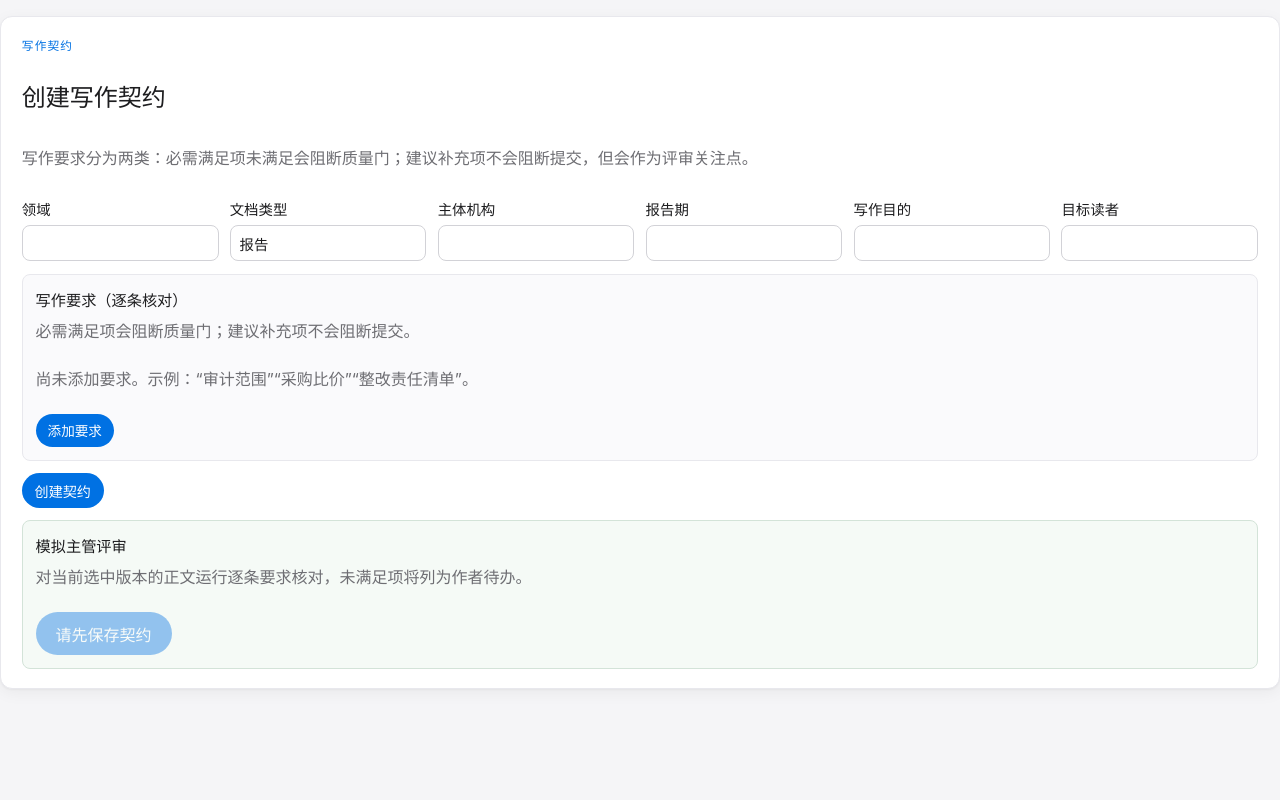
WritingContractForm › adds, edits, and removes requirements
Click the button "添加要求" at [75, 430], box [36,414,114,447]
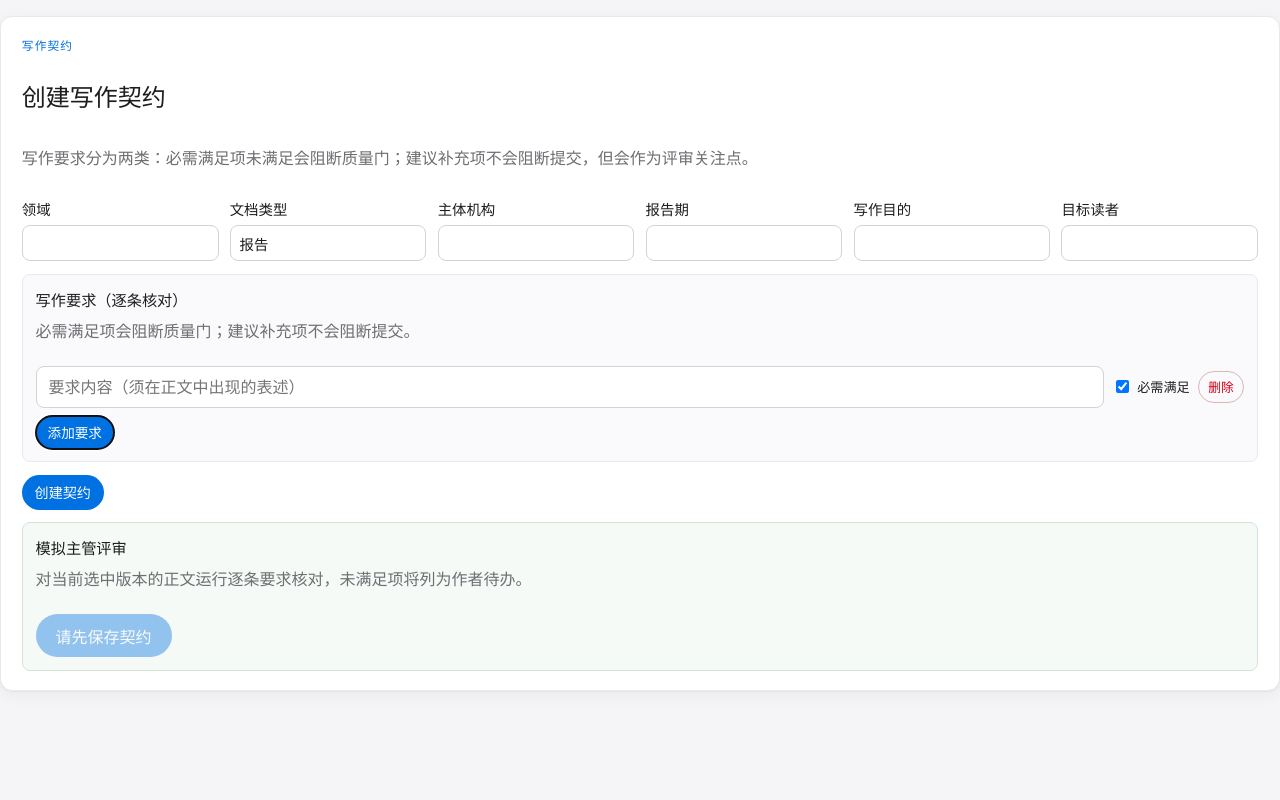
Click the button "添加要求" at [75, 432], box [36,416,114,449]
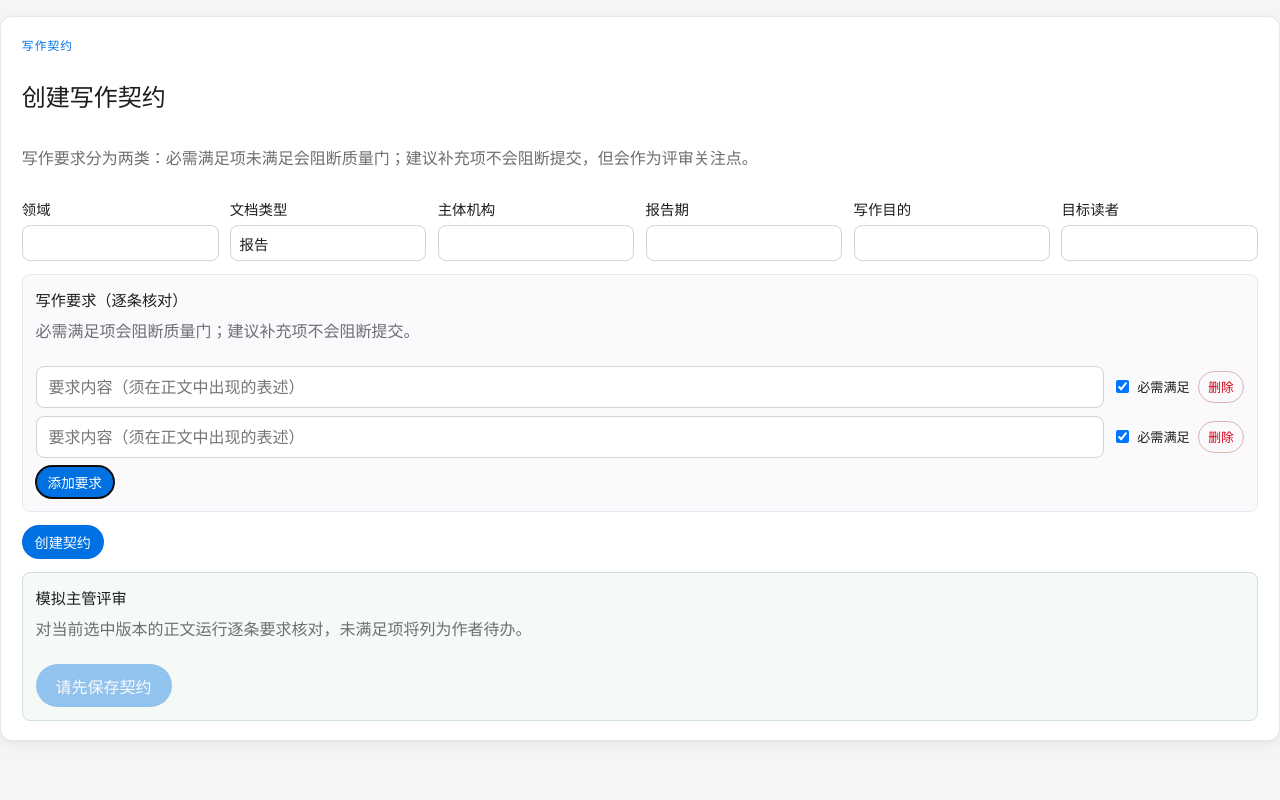
Check: the number of fields labelled "要求内容（须在正文中出现的表述）" is 2
Type "审计范围" into the 1st field labelled "要求内容（须在正文中出现的表述）" at [570, 387], box [36,366,1104,408]
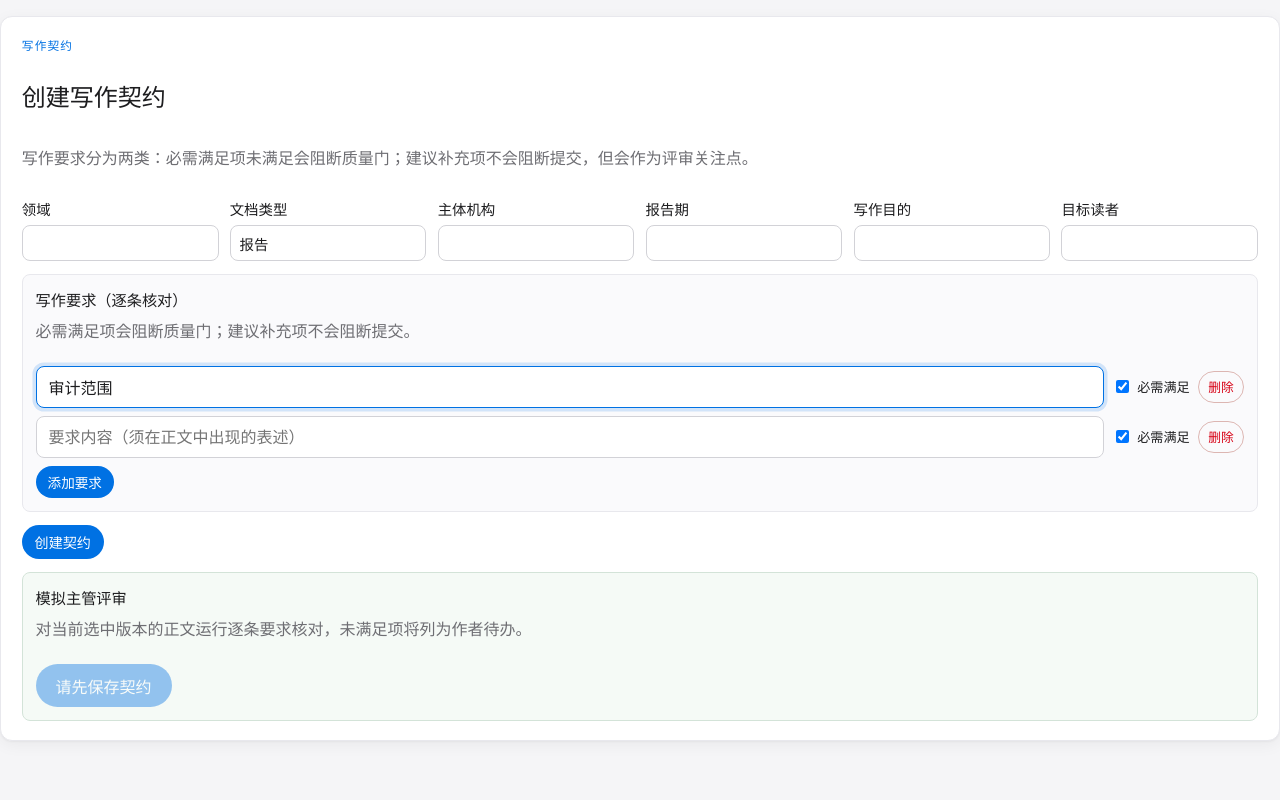
Click the button with aria-label "删除要求 2" at [1221, 437], box [1198,421,1244,453]
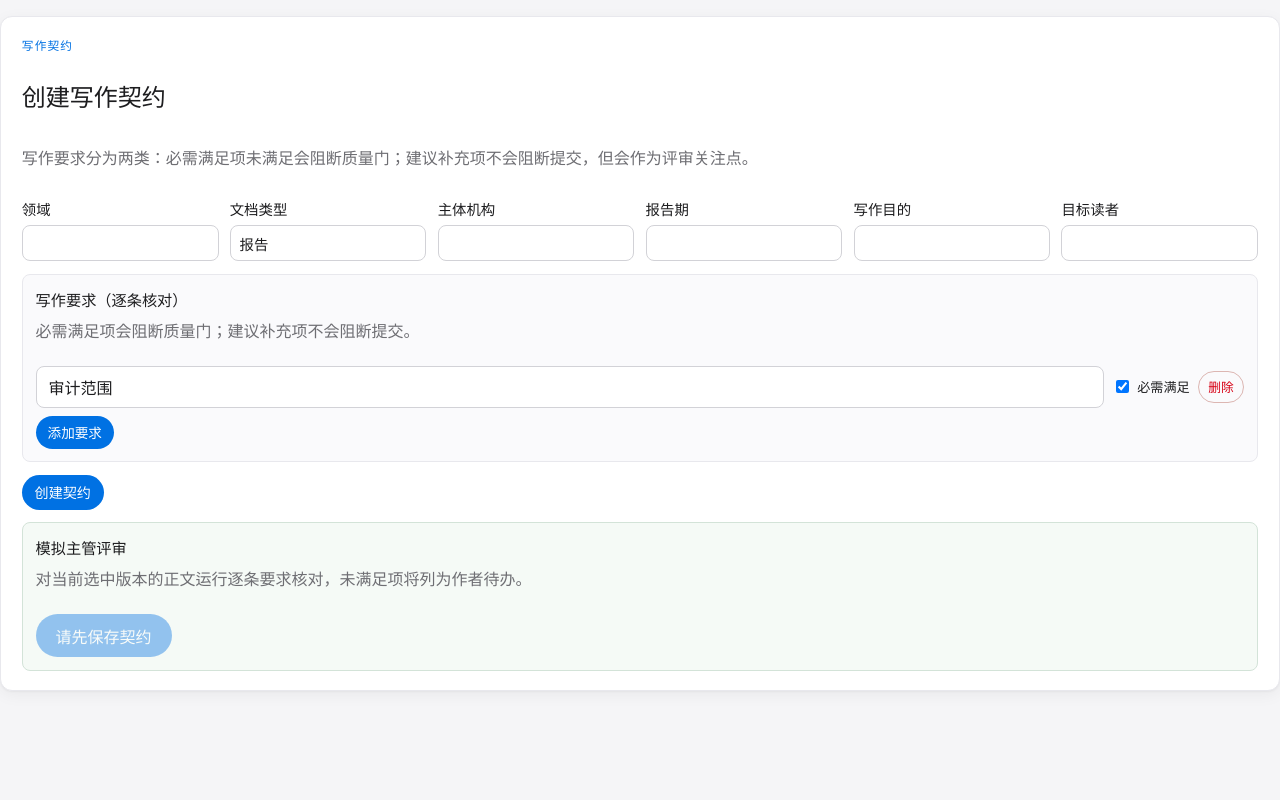
Check: the number of fields named "要求 1 内容" is 1, box [36,366,1104,408]
